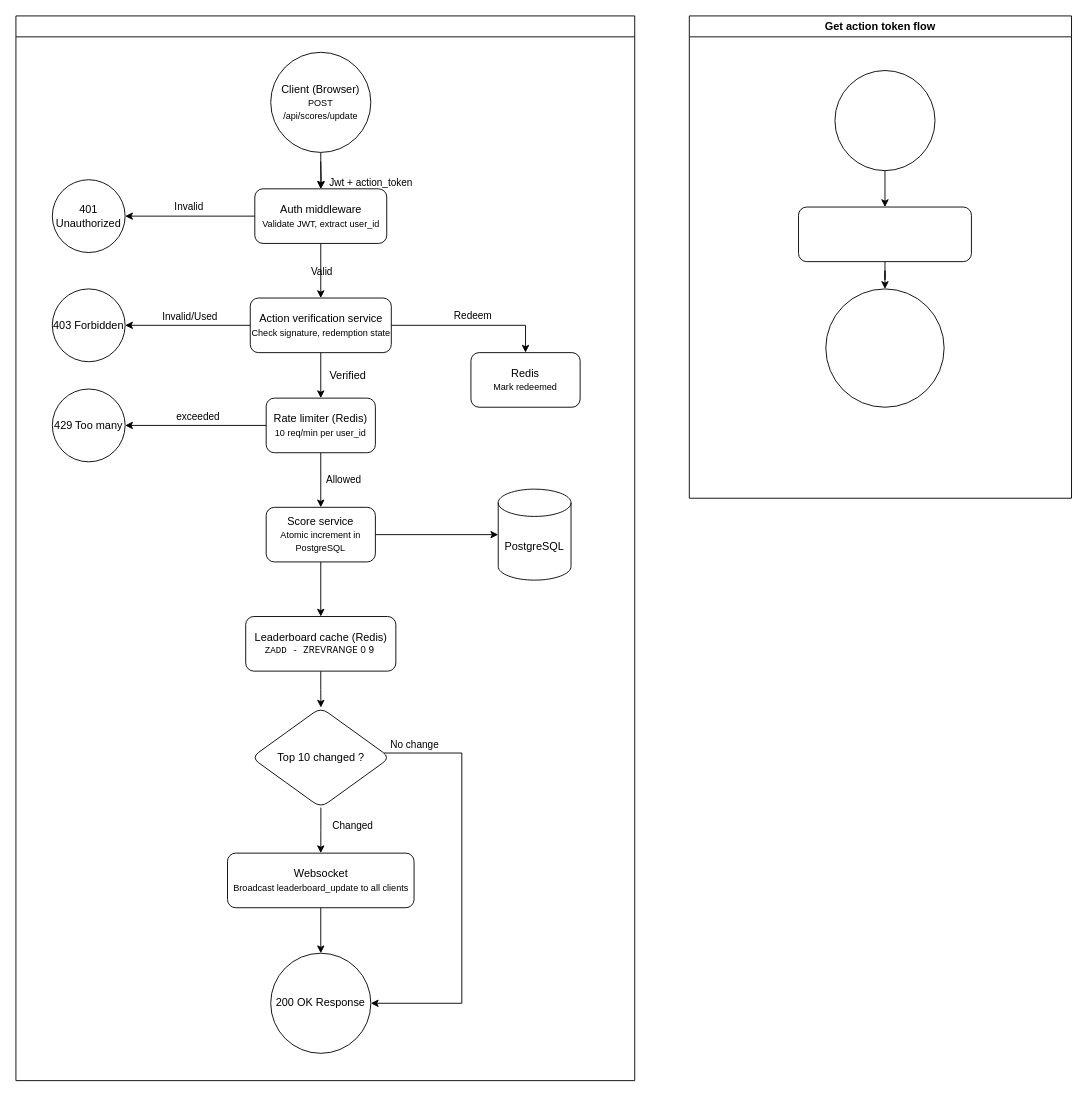
The diagram is 1087 pixels wide and 1097 high, and some of its shapes have lost their labels. Here are the shapes that lost their labels. From the top down, the centre of each, then its label:
(884,120): Client (Browser) GET /api/action/actionToken
(884,234): Action service Generate action_id and action_token Stored token (Redis: pending)
(884,347): 200 OK Response (action_id + action_token)
(325,548): Update score flow
